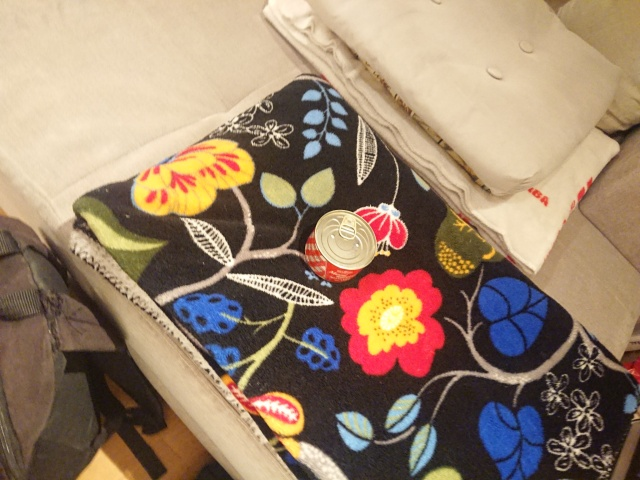Podravka Luncheon Meat 150g: (303, 207, 380, 286)
